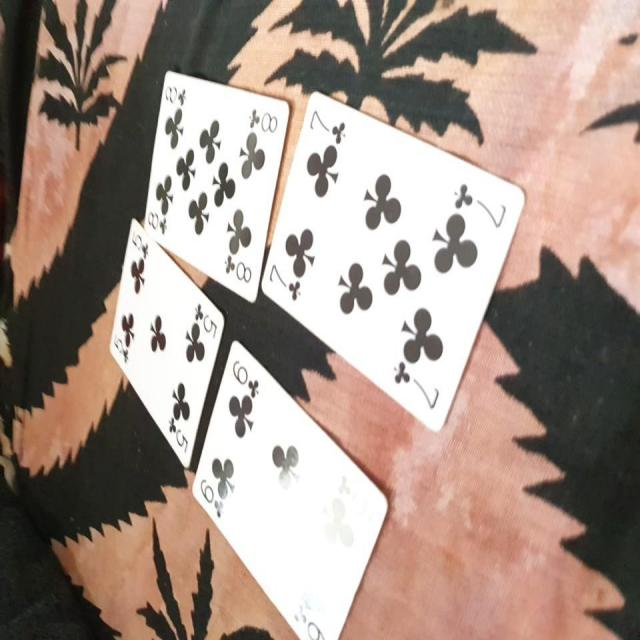5 Trefoils: (107, 216, 226, 471)
6 Trefoils: (189, 337, 388, 638)
7 Trefoils: (256, 91, 527, 432)
8 Trefoils: (142, 71, 288, 304)
